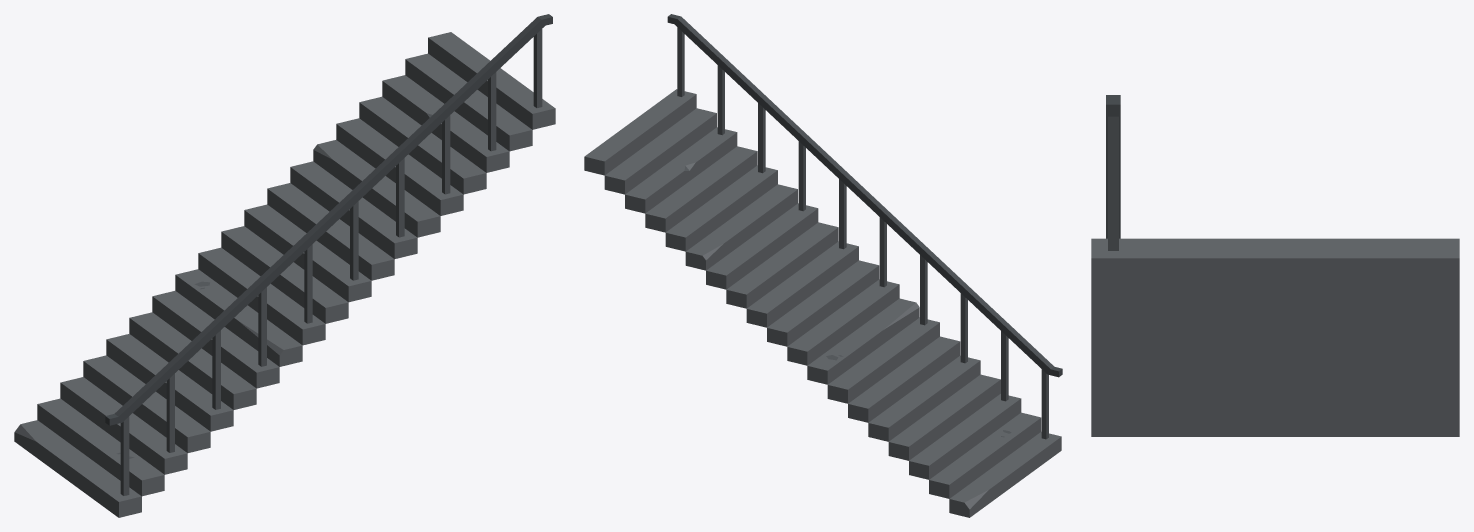
Rendered from Stairs_02.fbx.
3 views of the same model, side by side, from view 1: azimuth 30°, elevation 25°; view 2: azimuth 150°, elevation 25°; view 3: azimuth 270°, elevation 25° (orthographic). The views are drawn at different scales.
Parts seen in each view (by area): view 1: Stairs_02; view 2: Stairs_02; view 3: Stairs_02.
Boxes of the visible parts, left/top/right/bottom form: Stairs_02: left=14, top=14, right=555, bottom=517; Stairs_02: left=584, top=14, right=1062, bottom=517; Stairs_02: left=1091, top=95, right=1459, bottom=436.
Bounding box in the file's own units: 583 × 491 × 237.
